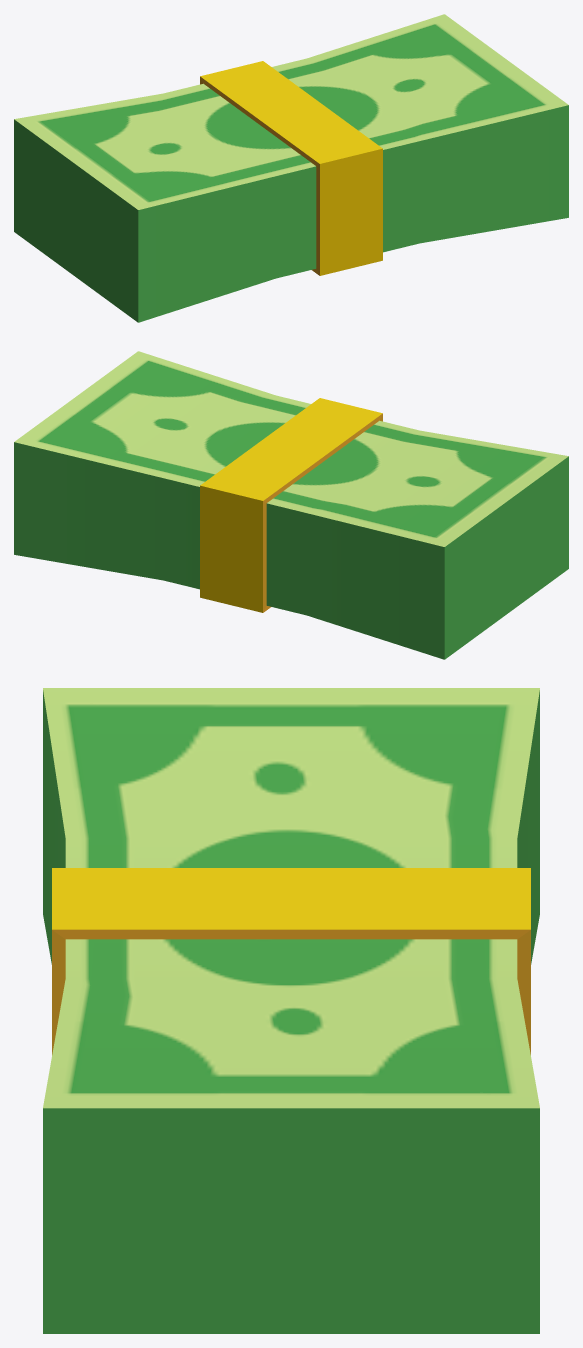
Rendered from Cash.fbx.
3 renders of one model, top to bottom at view 1: azimuth 30°, elevation 25°; view 2: azimuth 150°, elevation 25°; view 3: azimuth 270°, elevation 25°, orthographic. The views are drawn at different scales.
Visible parts, largest first — view 1: Cash; view 2: Cash; view 3: Cash.
Part boxes in pixels (left/top/right/bottom): Cash: left=14, top=14, right=568, bottom=322; Cash: left=14, top=351, right=568, bottom=659; Cash: left=43, top=688, right=539, bottom=1333.
Bounding box in the file's own units: 0.8569 × 0.4284 × 0.2142.
